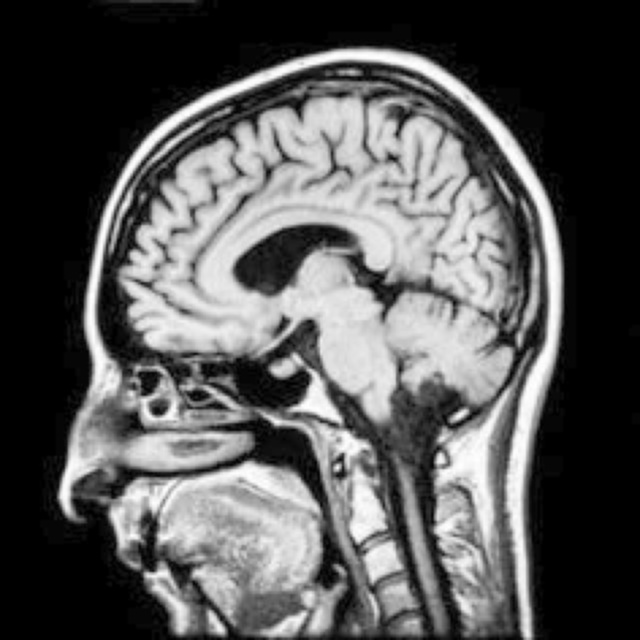glioma tumor: (127, 111, 499, 437)
